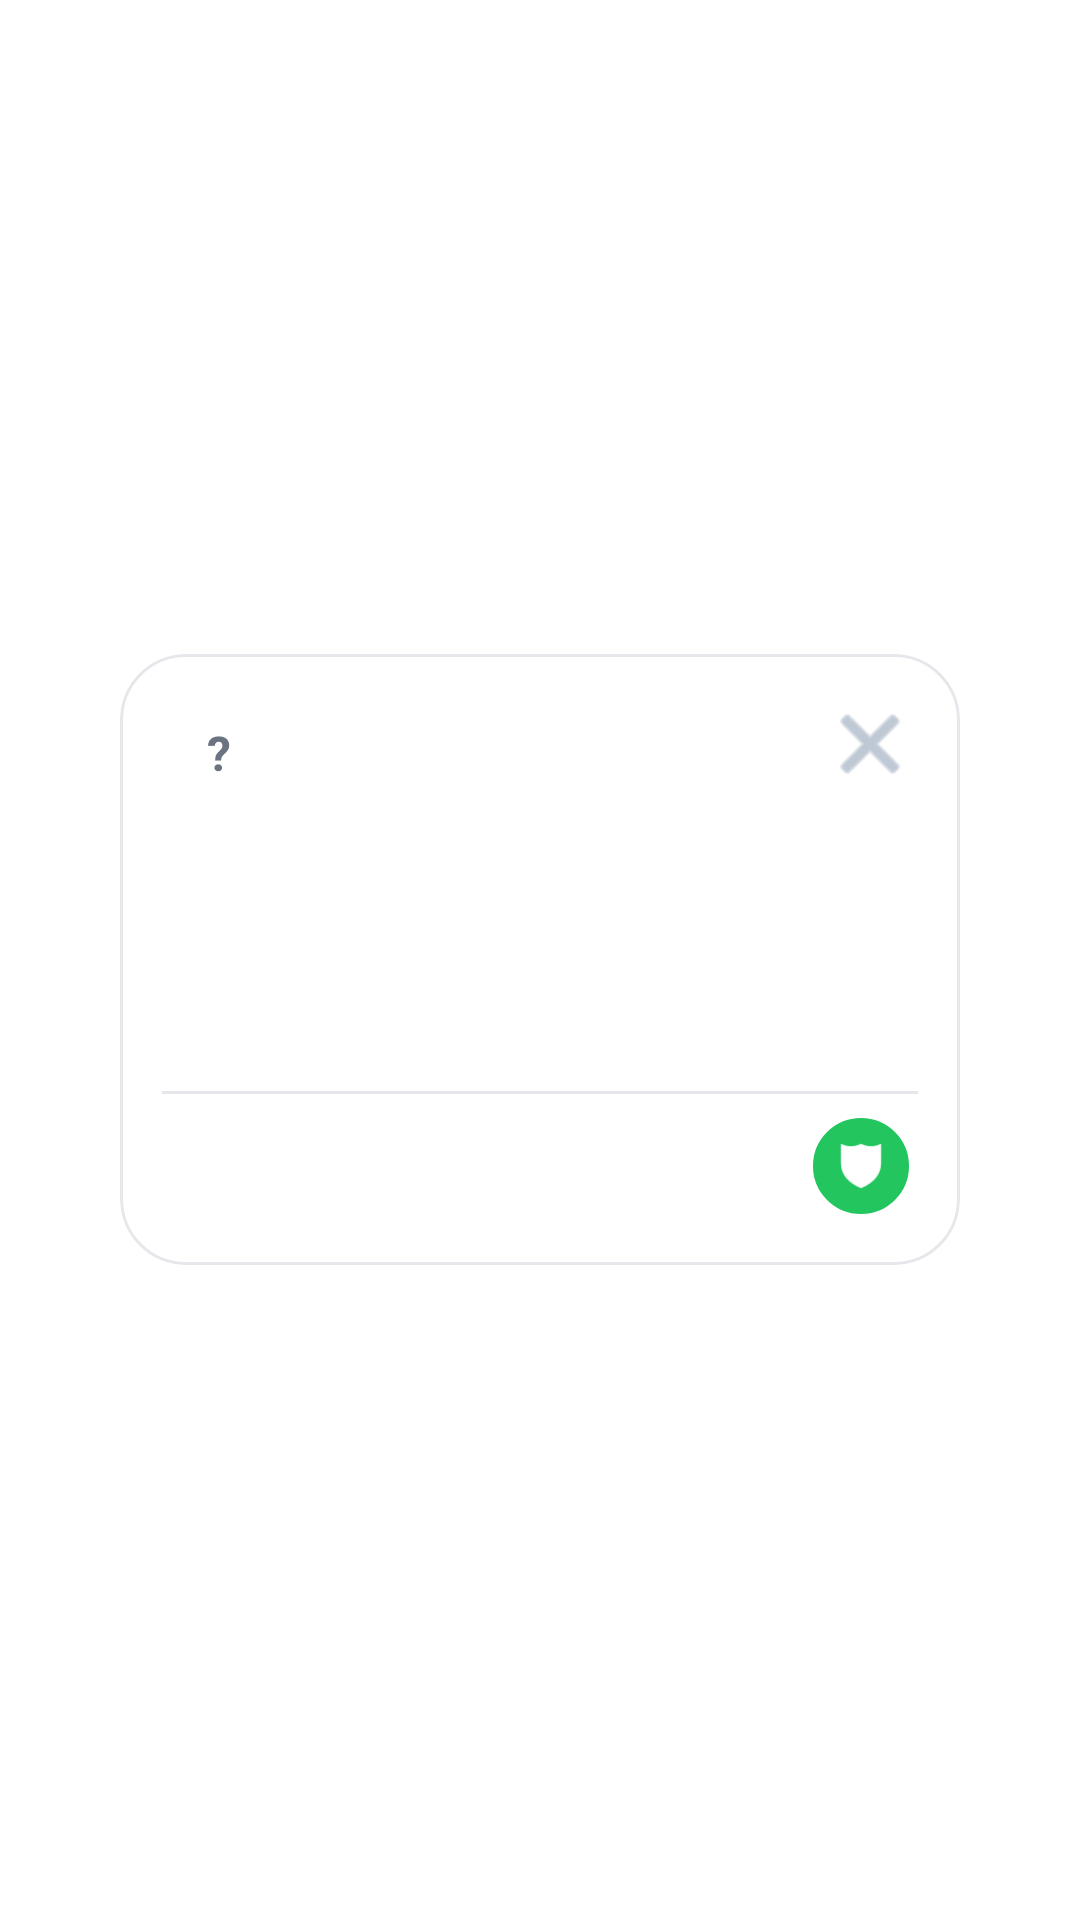

Icons on this 1080px×1920px Android screen, each with its box as (x1, y1, x2, y2):
Dismiss: (841, 715, 899, 773)
